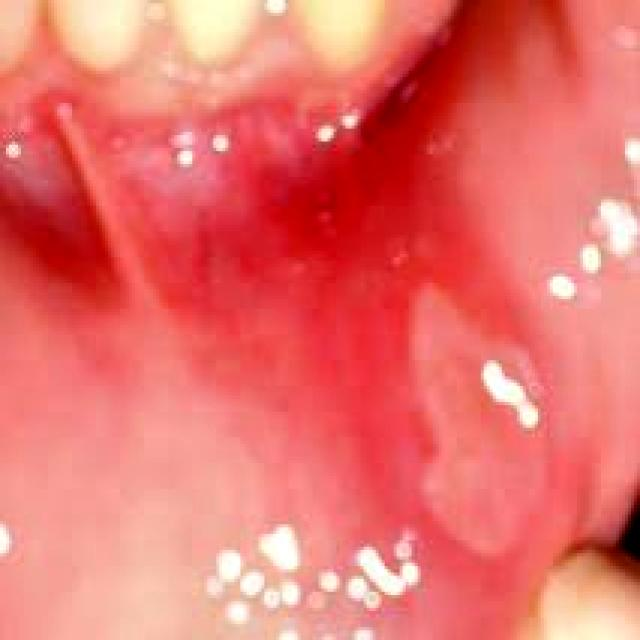ulcer: (412, 289, 541, 553)
